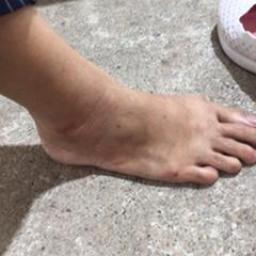Lateral View -Right Foot-: (6, 54, 255, 196)
